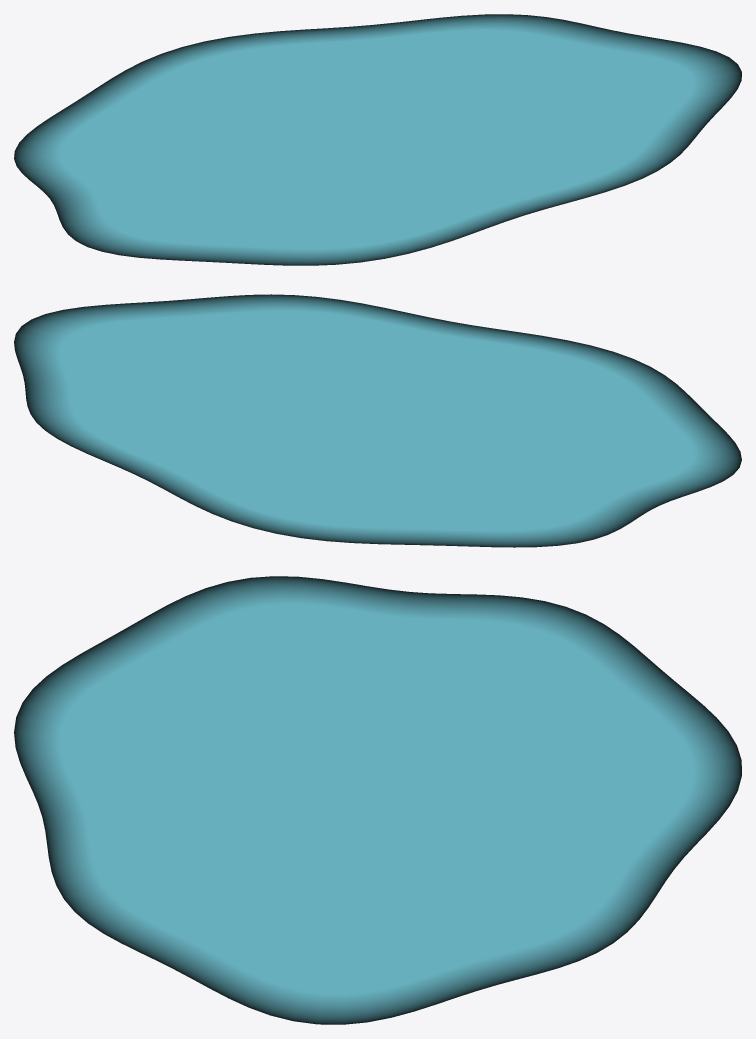
Rendered from SM_SF_EastPuddle.fbx.
3 renders of one model, top to bottom at view 1: azimuth 30°, elevation 25°; view 2: azimuth 150°, elevation 25°; view 3: azimuth 270°, elevation 25°, orthographic. The views are drawn at different scales.
Visible parts, largest first — view 1: SM_SF_EastPuddle; view 2: SM_SF_EastPuddle; view 3: SM_SF_EastPuddle.
Boxes of the visible parts, <box> form: SM_SF_EastPuddle: <box>14,14,741,265</box>; SM_SF_EastPuddle: <box>14,294,741,547</box>; SM_SF_EastPuddle: <box>14,576,741,1024</box>.
Size of the model in its own units: 12.34 by 8.46 by 0.
